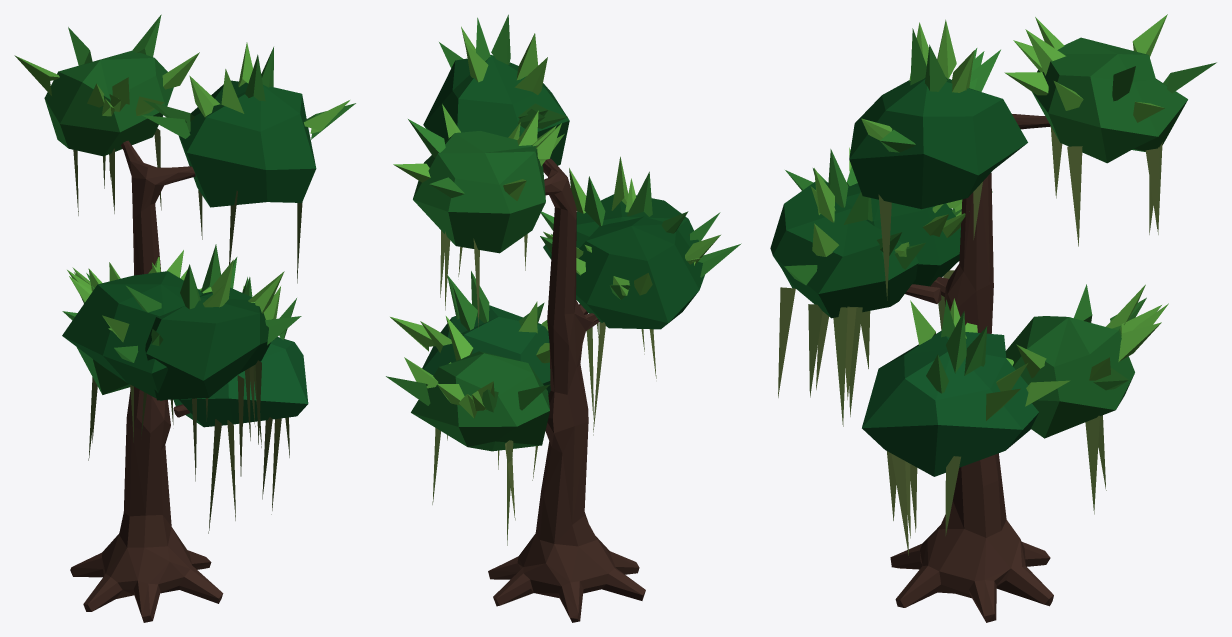
File: swamp_cypress_a.gltf
The picture shows the model from 3 angles, left to right: view 1: azimuth 30°, elevation 25°; view 2: azimuth 150°, elevation 25°; view 3: azimuth 270°, elevation 25°; orthographic projection. The views are drawn at different scales.
Parts seen in each view (by area): view 1: swamp_cypress_a; view 2: swamp_cypress_a; view 3: swamp_cypress_a.
Boxes of the visible parts, x1,y1,x2,y2 form: swamp_cypress_a: [14, 14, 355, 622]; swamp_cypress_a: [386, 14, 741, 622]; swamp_cypress_a: [770, 14, 1216, 622].
Bounding box in the file's own units: 2.09 × 3.91 × 2.62.
